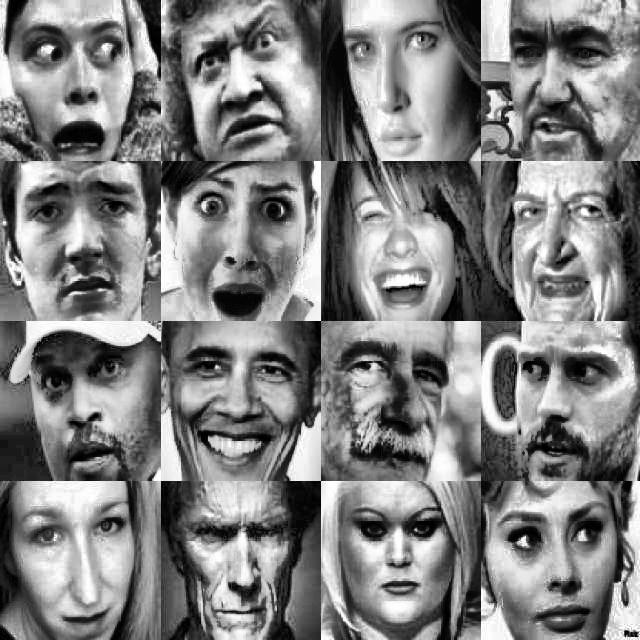angry: (509, 5, 633, 159), (19, 335, 145, 472), (507, 337, 640, 462), (180, 13, 303, 139), (348, 492, 466, 620), (189, 501, 303, 633)
fear: (188, 166, 306, 315), (15, 13, 151, 142)
happy: (341, 178, 478, 314), (179, 331, 299, 467), (507, 180, 625, 311)
neutral: (342, 16, 471, 162), (504, 503, 640, 639), (340, 335, 464, 473), (17, 484, 134, 630)
sad: (19, 176, 143, 310)
